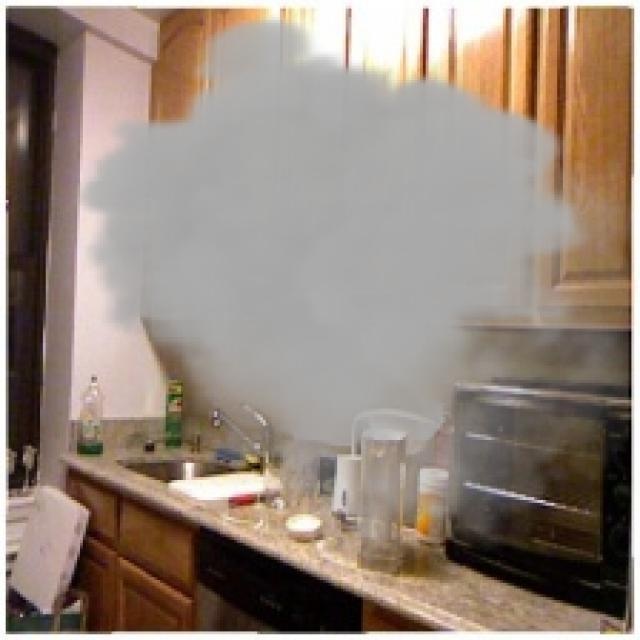Smoke: (71, 11, 628, 566)
